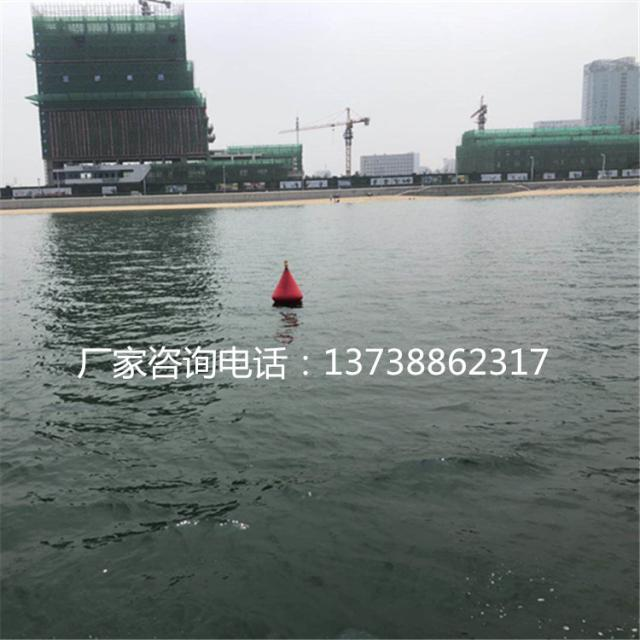buoy: (266, 258, 311, 308)
